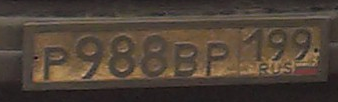character: (75, 35, 102, 80), (109, 33, 135, 77), (140, 34, 166, 77), (205, 39, 229, 77), (44, 45, 68, 82), (174, 41, 197, 76), (243, 26, 264, 62), (292, 28, 312, 64), (268, 27, 287, 62)
